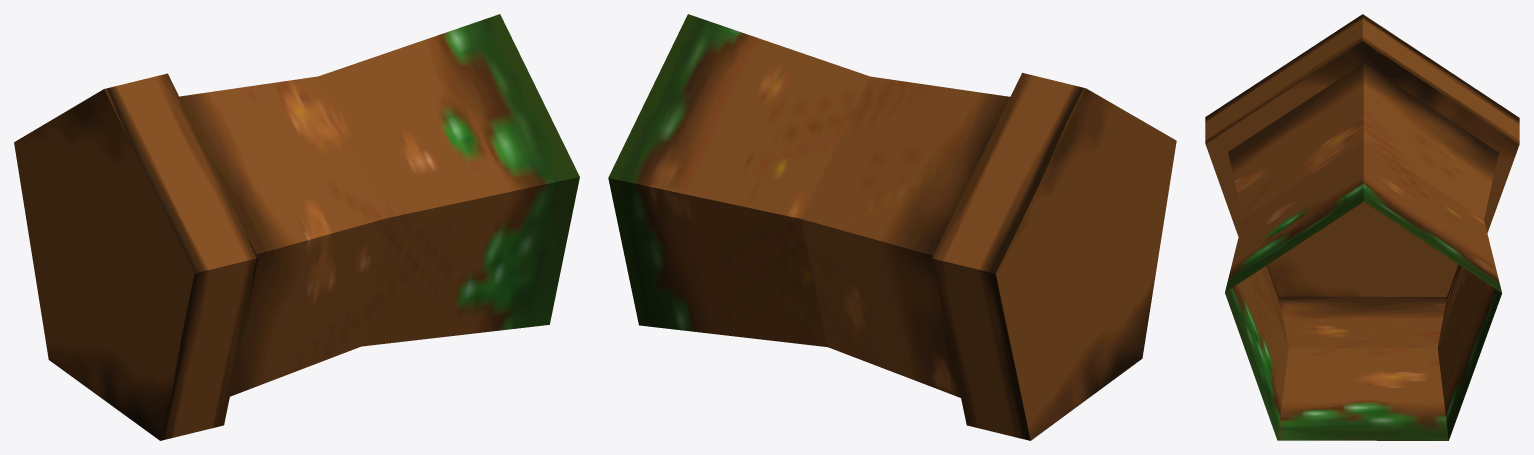
Rendered from Rohr_Stück_1818.glb.
3 views of the same model, side by side, from view 1: azimuth 30°, elevation 25°; view 2: azimuth 150°, elevation 25°; view 3: azimuth 270°, elevation 25° (orthographic). The views are drawn at different scales.
Visible parts, largest first — view 1: pCylinderShape75, pCylinderShape76; view 2: pCylinderShape75, pCylinderShape76; view 3: pCylinderShape75, pCylinderShape76.
Boxes of the visible parts, left/top/right/bottom form: pCylinderShape75: left=179, top=14, right=579, bottom=396; pCylinderShape76: left=14, top=73, right=257, bottom=440; pCylinderShape75: left=608, top=14, right=1009, bottom=397; pCylinderShape76: left=932, top=72, right=1176, bottom=440; pCylinderShape75: left=1225, top=63, right=1501, bottom=440; pCylinderShape76: left=1205, top=14, right=1519, bottom=296.
Bounding box in the file's own units: 0.545 × 0.4087 × 0.4294.
2 materials, 2 textured.
